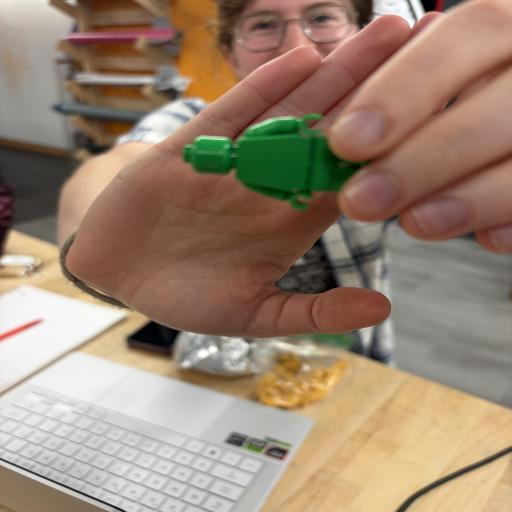Green-Lego: (183, 134, 362, 210)
